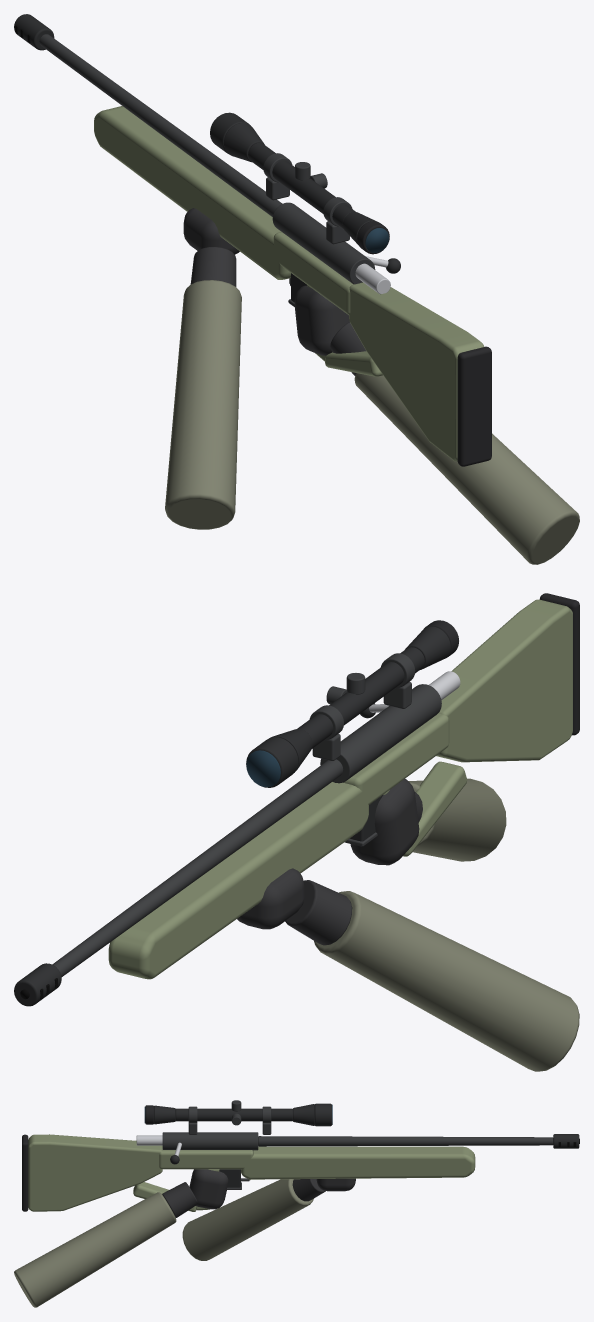
File: adler.glb
3 views of the same model, one above another, from view 1: azimuth 30°, elevation 25°; view 2: azimuth 150°, elevation 25°; view 3: azimuth 270°, elevation 25° (orthographic). The views are drawn at different scales.
Parts seen in each view (by area): view 1: SleeveL, Buttstock, SleeveR, Forend, Barrel, ButtPad, Receiver, Bedding, HandR, ScopeTube, WristL, HandL (+4 smaller); view 2: SleeveL, Buttstock, Forend, Barrel, SleeveR, Receiver, Bedding, HandR, ScopeTube, WristL, HandL, ThumbholeBar (+6 smaller); view 3: Buttstock, Forend, SleeveR, SleeveL, Barrel, Bedding, Receiver, ScopeTube, HandR, WristR, WristL, ButtPad (+8 smaller).
Boxes of the visible parts, left/top/right/bottom form: SleeveL: left=165, top=280, right=241, bottom=529; Buttstock: left=349, top=282, right=484, bottom=461; SleeveR: left=354, top=373, right=579, bottom=564; Forend: left=94, top=106, right=290, bottom=279; Barrel: left=39, top=34, right=282, bottom=217; ButtPad: left=457, top=346, right=491, bottom=466; Receiver: left=272, top=202, right=375, bottom=284; Bedding: left=273, top=232, right=354, bottom=314; HandR: left=294, top=285, right=349, bottom=355; ScopeTube: left=248, top=143, right=355, bottom=228; WristL: left=190, top=247, right=236, bottom=286; HandL: left=183, top=208, right=239, bottom=254; SleeveL: left=314, top=891, right=579, bottom=1071; Buttstock: left=436, top=599, right=572, bottom=762; Forend: left=108, top=782, right=368, bottom=979; Barrel: left=52, top=759, right=343, bottom=976; SleeveR: left=408, top=778, right=506, bottom=861; Receiver: left=320, top=684, right=441, bottom=783; Bedding: left=343, top=713, right=449, bottom=805; HandR: left=350, top=779, right=419, bottom=865; ScopeTube: left=297, top=647, right=424, bottom=748; WristL: left=285, top=880, right=352, bottom=945; HandL: left=237, top=868, right=304, bottom=929; ThumbholeBar: left=403, top=761, right=467, bottom=856; Buttstock: left=28, top=1134, right=162, bottom=1211; Forend: left=241, top=1146, right=475, bottom=1179; SleeveR: left=14, top=1192, right=176, bottom=1307; SleeveL: left=182, top=1179, right=313, bottom=1260; Barrel: left=258, top=1136, right=553, bottom=1146; Bedding: left=159, top=1145, right=253, bottom=1169; Receiver: left=162, top=1132, right=258, bottom=1150; ScopeTube: left=175, top=1108, right=292, bottom=1121; HandR: left=189, top=1169, right=228, bottom=1209; WristR: left=162, top=1182, right=197, bottom=1217; WristL: left=292, top=1179, right=325, bottom=1201; ButtPad: left=22, top=1134, right=28, bottom=1211.
Bounding box in the file's own units: 0.4383 × 0.496 × 1.3.
